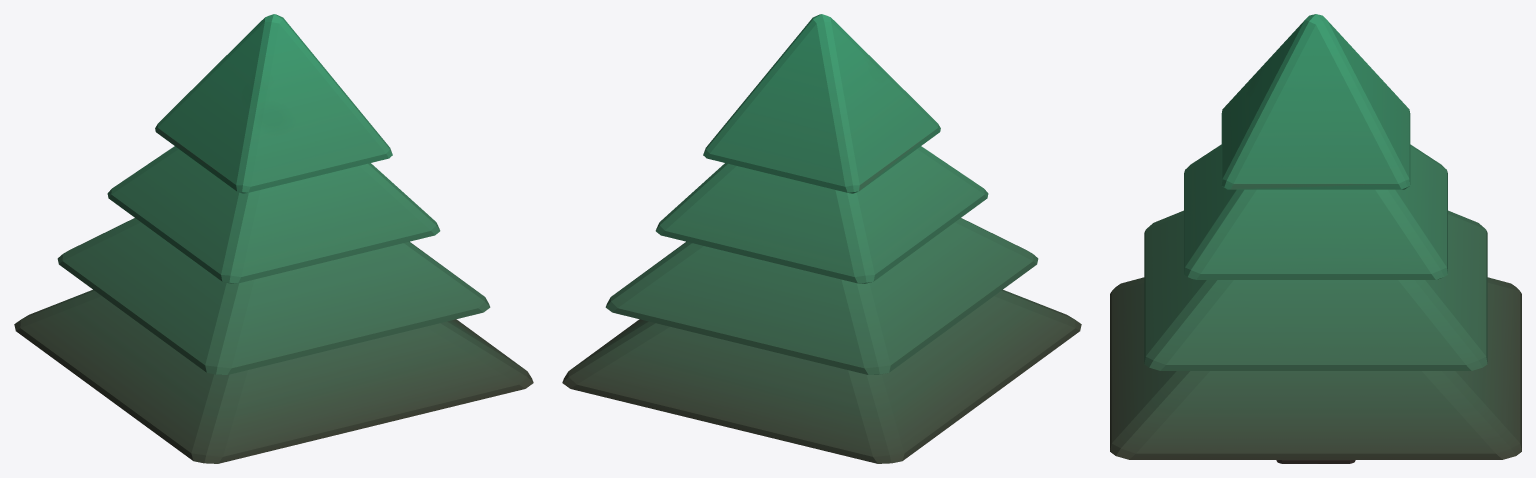
The model's file is lowpolyTree02-B.fbx.
3 views of the same model, side by side, from view 1: azimuth 30°, elevation 25°; view 2: azimuth 150°, elevation 25°; view 3: azimuth 270°, elevation 25° (orthographic). The views are drawn at different scales.
Parts seen in each view (by area): view 1: Cube.002; view 2: Cube.002; view 3: Cube.002.
Boxes of the visible parts, x1=… form: Cube.002: x1=14, y1=14, x2=533, y2=463; Cube.002: x1=562, y1=14, x2=1081, y2=463; Cube.002: x1=1110, y1=14, x2=1521, y2=463.
Bounding box in the file's own units: 502 × 586 × 502.
Materials: 1 (1 with a texture image).
